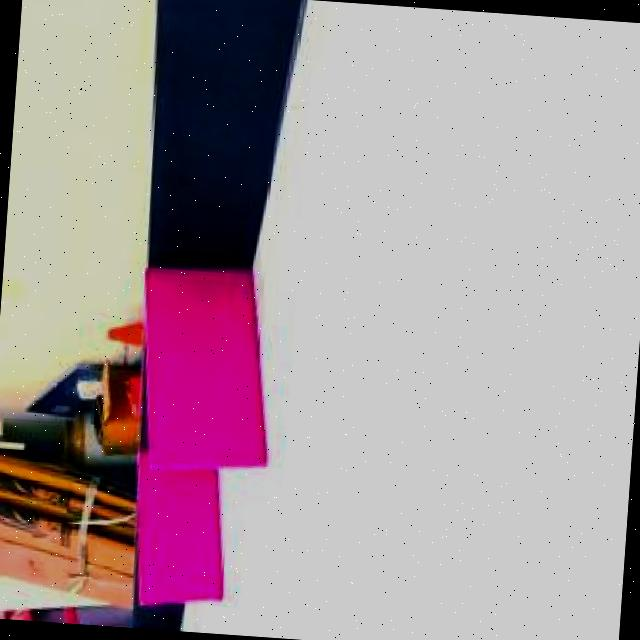xparking: (144, 267, 278, 473), (132, 471, 225, 604)
